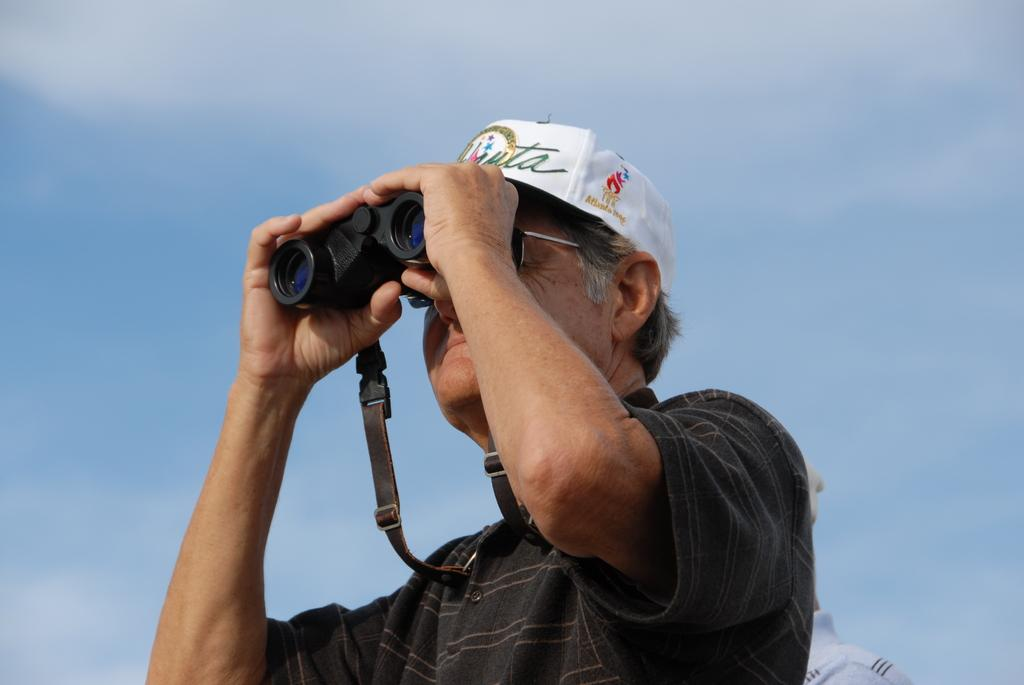Hat: (456, 116, 676, 310)
